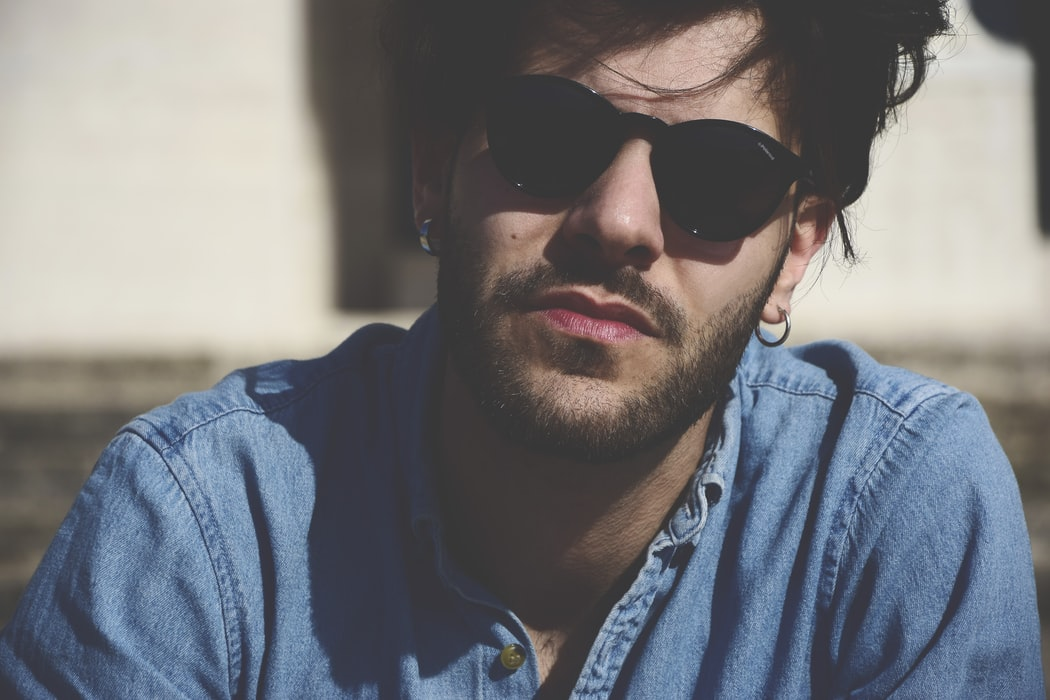beard: (420, 243, 794, 463)
glasses: (450, 66, 820, 264)
